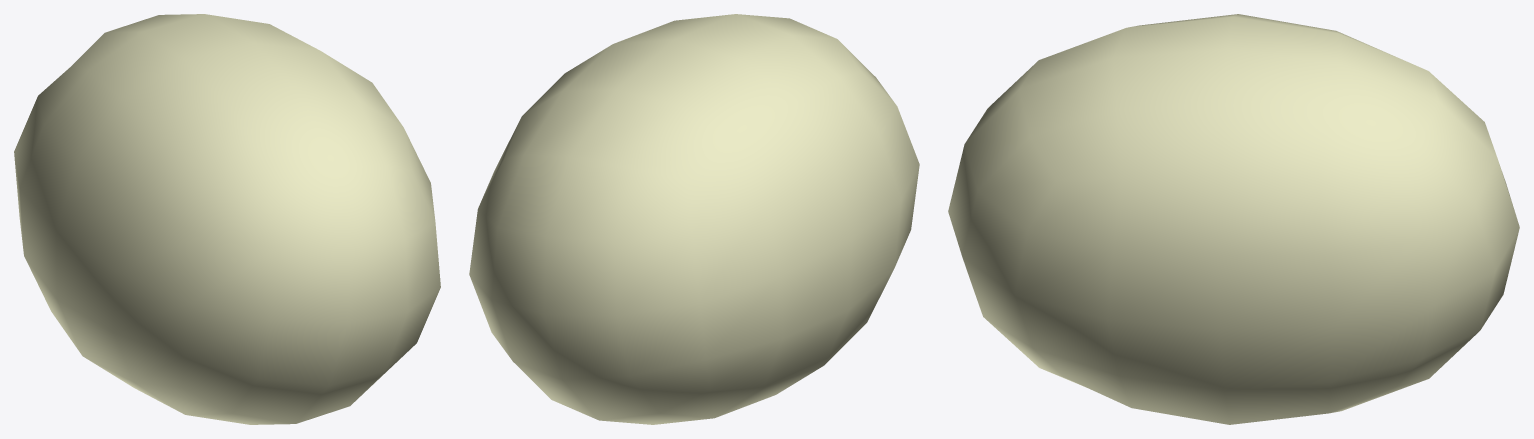
The model's file is Papa.fbx.
The picture shows the model from 3 angles, left to right: view 1: azimuth 30°, elevation 25°; view 2: azimuth 150°, elevation 25°; view 3: azimuth 270°, elevation 25°; orthographic projection. The views are drawn at different scales.
Visible parts, largest first — view 1: pCube10; view 2: pCube10; view 3: pCube10.
Boxes of the visible parts, x1=… form: pCube10: x1=14, y1=14, x2=440, y2=424; pCube10: x1=469, y1=14, x2=919, y2=424; pCube10: x1=948, y1=14, x2=1519, y2=424.
Size of the model in its own units: 2.48 by 2.49 by 3.55.
